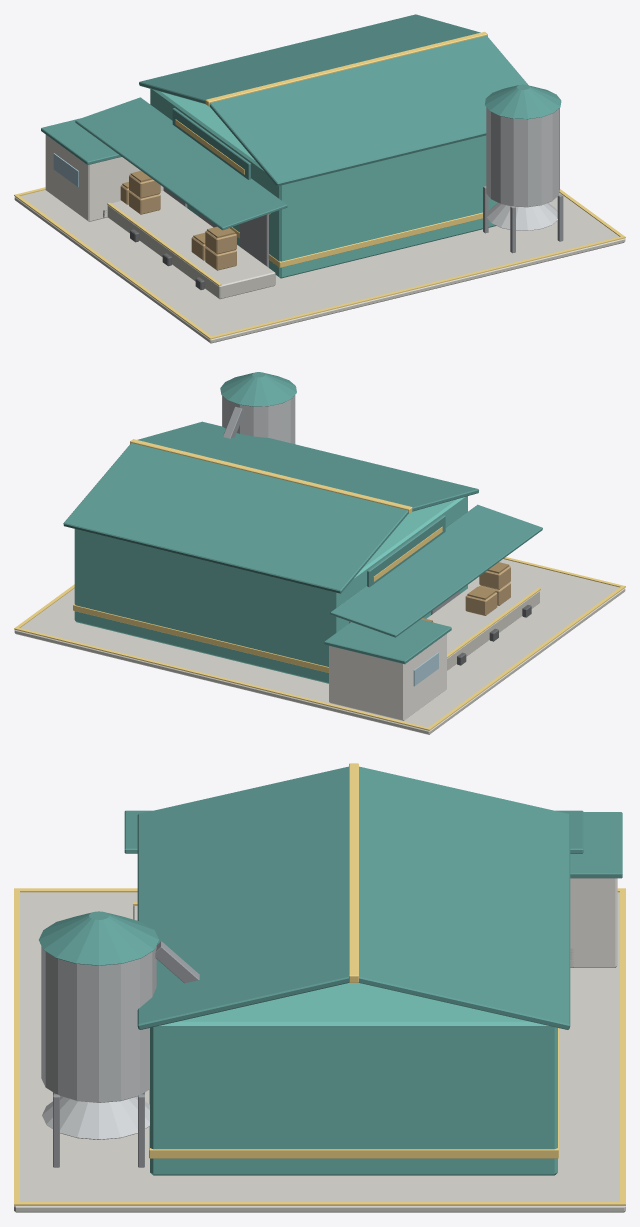
The model's file is BuyerDepot.fbx.
The picture shows the model from 3 angles, top to bottom: view 1: azimuth 30°, elevation 25°; view 2: azimuth 150°, elevation 25°; view 3: azimuth 270°, elevation 25°; orthographic projection. The views are drawn at different scales.
Parts seen in each view (by area): view 1: BD_RoofB, BD_Base, BD_Hall, BD_Canopy, BD_RoofA, BD_Silo, BD_Dock, BD_Office, BD_SiloRoof, BD_OfficeRoof, BD_HallStripe, BD_EdgeS (+10 smaller); view 2: BD_RoofA, BD_Hall, BD_Base, BD_Canopy, BD_RoofB, BD_Office, BD_Dock, BD_OfficeRoof, BD_Silo, BD_SiloRoof, BD_HallStripe, BD_EdgeN (+5 smaller); view 3: BD_Hall, BD_RoofA, BD_Base, BD_RoofB, BD_Silo, BD_SiloRoof, BD_Office, BD_HallStripe, BD_SiloCone, BD_OfficeRoof, BD_EdgeE, BD_Ridge (+4 smaller).
Boxes of the visible parts, x1,y1,x2,y2 form: BD_RoofB: [209, 35, 528, 186]; BD_Base: [14, 190, 625, 343]; BD_Hall: [150, 89, 497, 278]; BD_Canopy: [75, 97, 287, 230]; BD_RoofA: [139, 14, 480, 104]; BD_Silo: [486, 107, 559, 207]; BD_Dock: [107, 190, 275, 299]; BD_Office: [45, 135, 163, 221]; BD_SiloRoof: [485, 84, 561, 119]; BD_OfficeRoof: [41, 118, 121, 164]; BD_HallStripe: [230, 212, 482, 267]; BD_EdgeS: [208, 236, 625, 339]; BD_RoofA: [63, 443, 408, 593]; BD_Hall: [74, 496, 467, 683]; BD_Base: [14, 559, 625, 734]; BD_Canopy: [330, 504, 542, 637]; BD_RoofB: [137, 421, 478, 511]; BD_Office: [329, 634, 446, 720]; BD_Dock: [426, 580, 539, 670]; BD_OfficeRoof: [324, 619, 451, 664]; BD_Silo: [222, 395, 295, 443]; BD_SiloRoof: [220, 372, 296, 406]; BD_HallStripe: [73, 604, 328, 672]; BD_EdgeN: [14, 627, 431, 730]; BD_Hall: [150, 983, 557, 1175]; BD_RoofA: [358, 766, 570, 1029]; BD_Base: [14, 892, 625, 1212]; BD_RoofB: [137, 766, 349, 1029]; BD_Silo: [41, 946, 156, 1102]; BD_SiloRoof: [39, 911, 158, 965]; BD_Office: [570, 878, 617, 967]; BD_HallStripe: [149, 1028, 558, 1158]; BD_SiloCone: [42, 1096, 149, 1139]; BD_OfficeRoof: [570, 812, 622, 878]; BD_EdgeE: [20, 1202, 619, 1205]; BD_Ridge: [349, 763, 358, 982].
Bounding box in the file's own units: 44 × 15.6 × 36.
